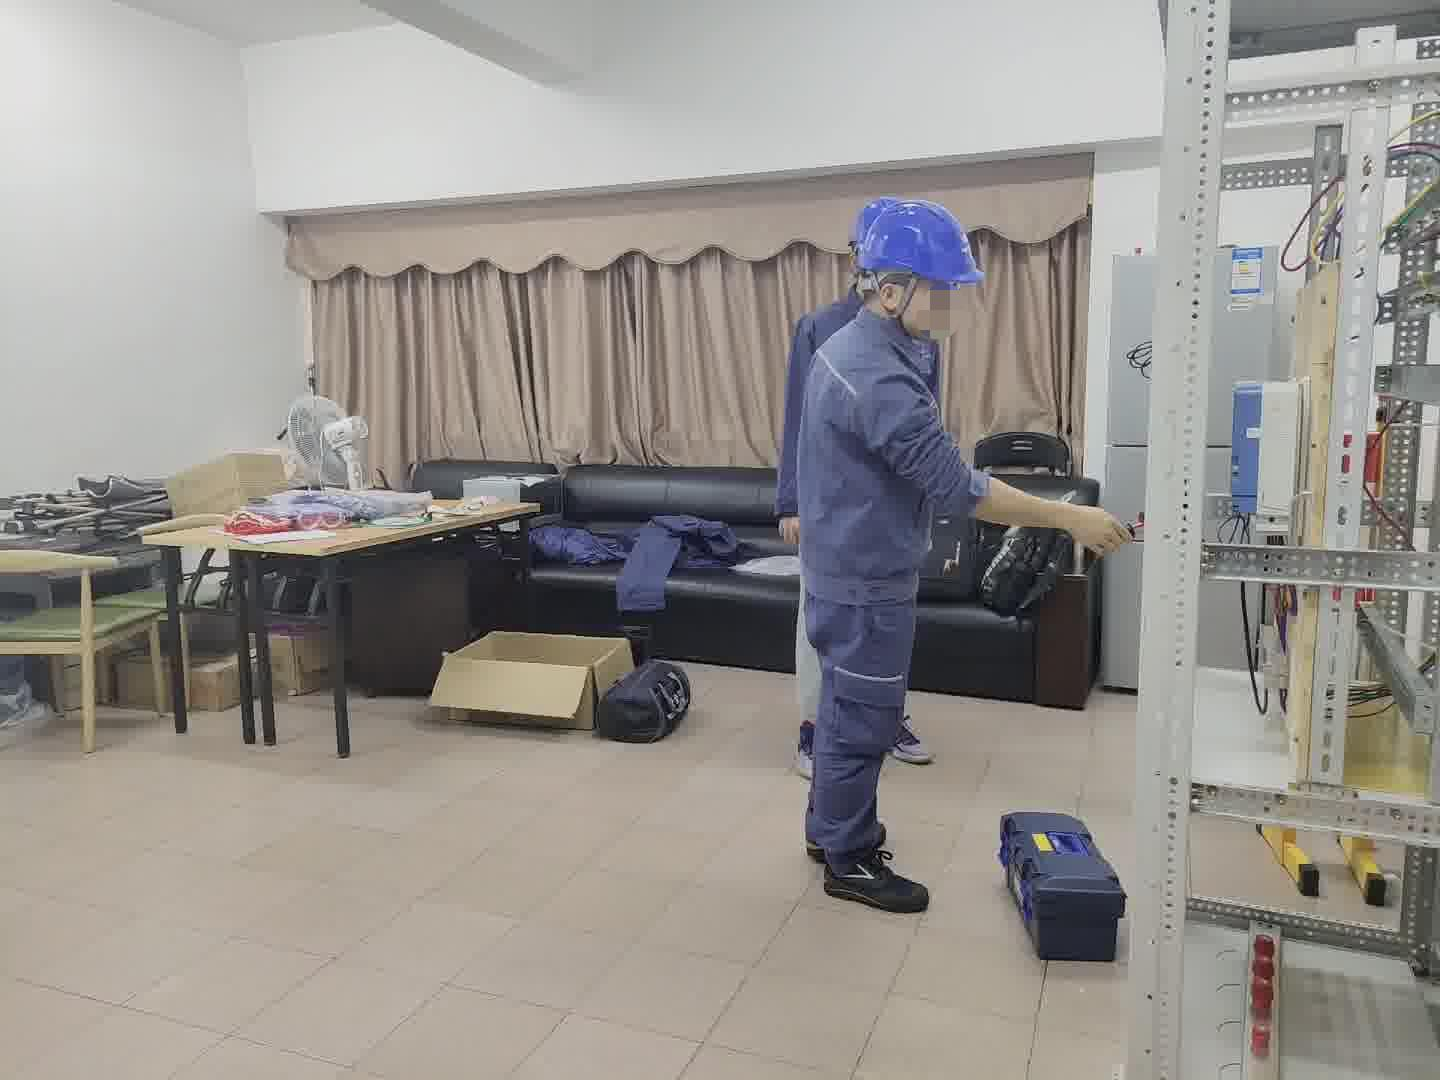halt: (848, 199, 986, 335)
inear: (866, 272, 923, 324)
